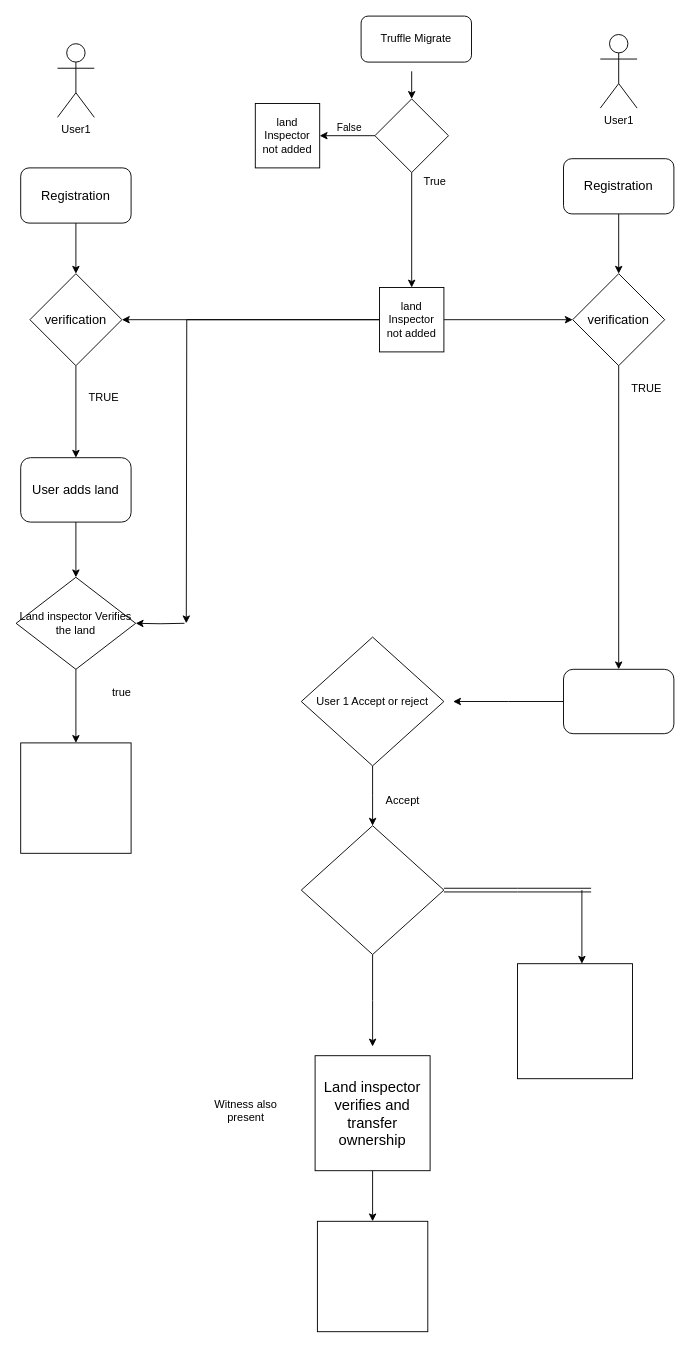
This 690x1348 diagram has some shape labels left out. Each missing label, with the box of its shape:
Owner Adds land Inspector: (374, 98, 448, 172)
Ownership Sucessfully Transferred: (316, 1220, 428, 1332)
Transaction Failed: (517, 963, 632, 1079)
User makes it available for selling: (20, 742, 131, 853)
User send buying request: (563, 668, 674, 734)
User2 makes payment: (300, 825, 444, 954)
